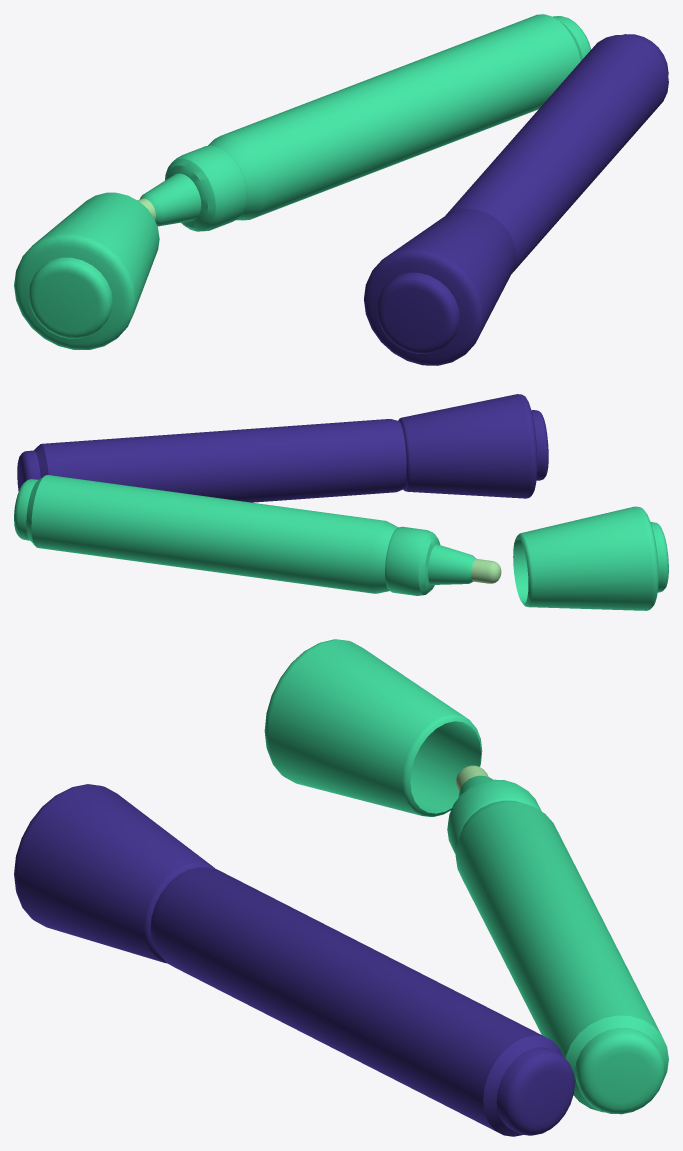
The model's file is fibrones.fbx.
3 views of the same model, one above another, from view 1: azimuth 30°, elevation 25°; view 2: azimuth 150°, elevation 25°; view 3: azimuth 270°, elevation 25° (orthographic). The views are drawn at different scales.
Visible parts, largest first — view 1: fibrones; view 2: fibrones; view 3: fibrones.
Part boxes in pixels (x1,y1,x2,y2): fibrones: (14, 14, 668, 365); fibrones: (14, 394, 668, 610); fibrones: (14, 639, 668, 1136).
Bounding box in the file's own units: 79.18 × 12.22 × 52.45.
